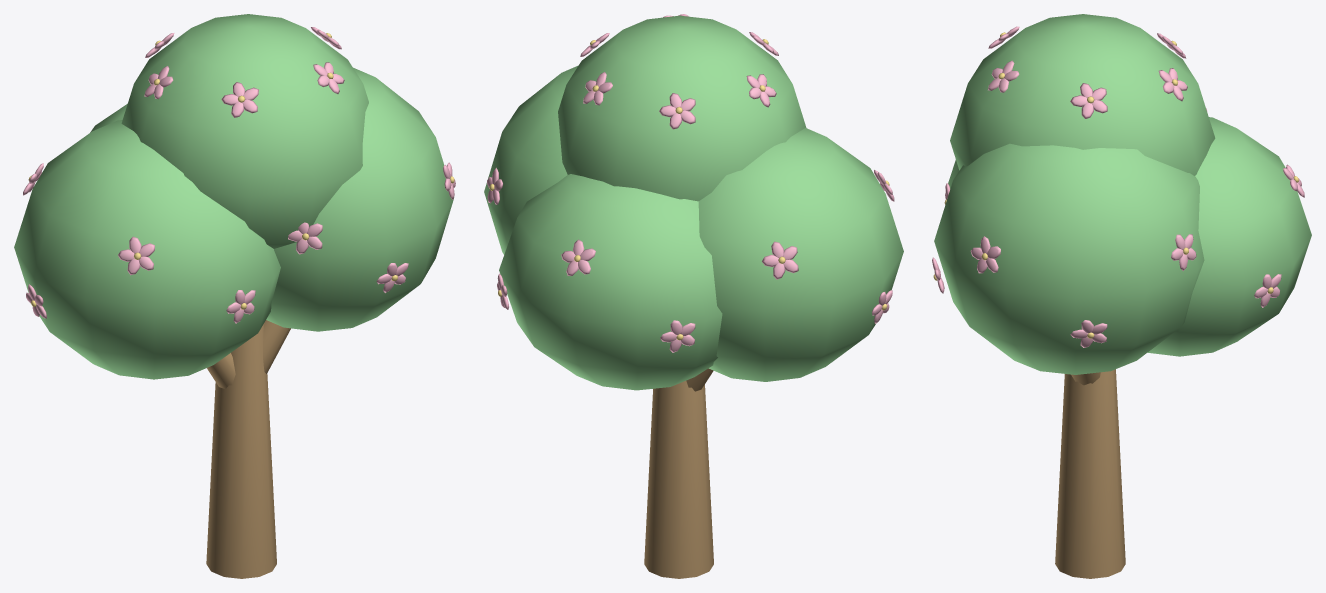
Rendered from tree_fruit_spring.glb.
3 views of the same model, side by side, from view 1: azimuth 30°, elevation 25°; view 2: azimuth 150°, elevation 25°; view 3: azimuth 270°, elevation 25° (orthographic).
Size of the model in its own units: 2.46 by 3.19 by 2.04.
